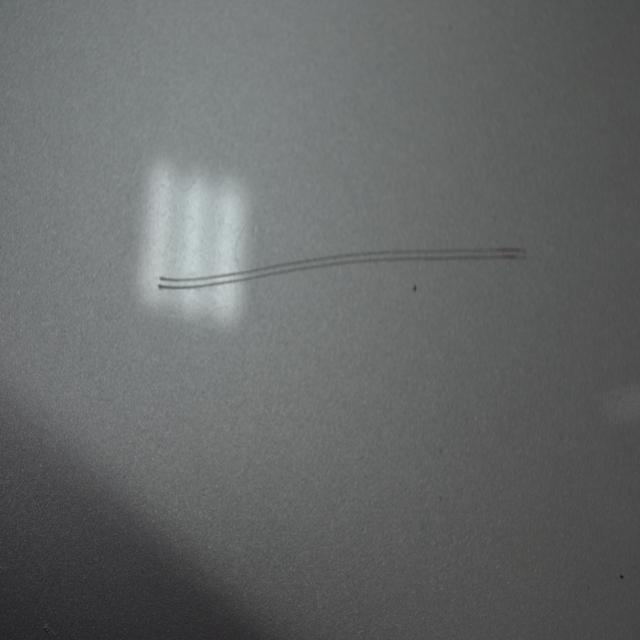dirt: (412, 279, 419, 295), (617, 570, 626, 580)
scratch: (153, 243, 531, 301)
